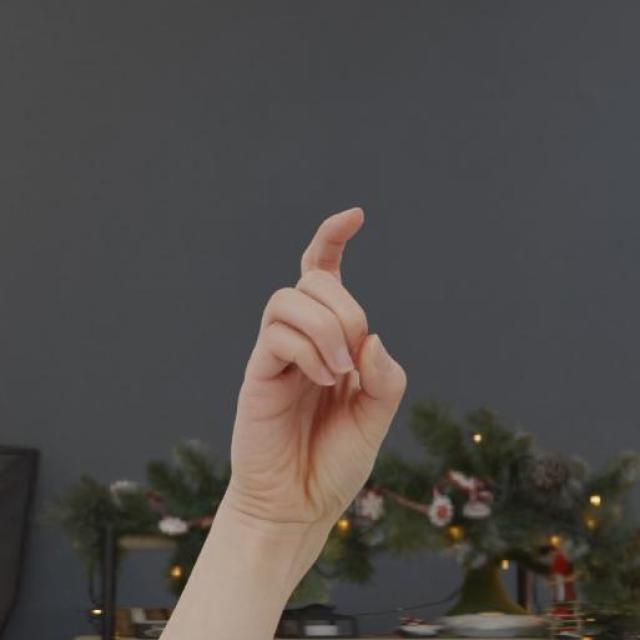X: (217, 203, 411, 529)
